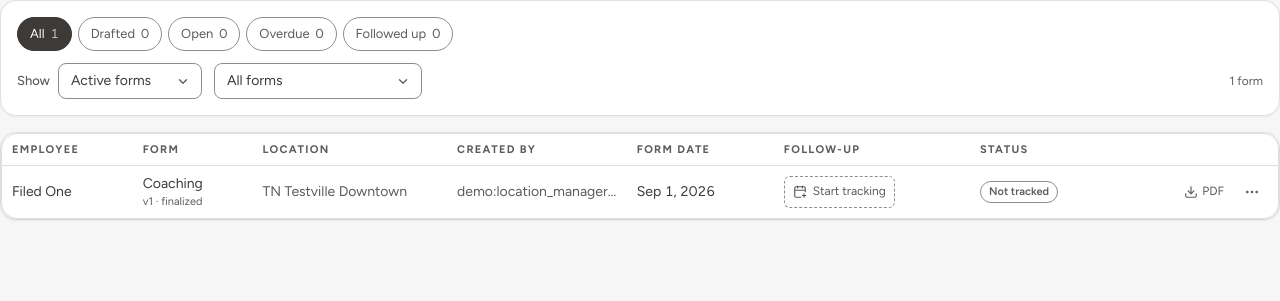
it: delete and archive still work as they did › offers Archive INSTEAD OF Delete on a finalized form
Click the button named "more actions".
click(1252, 192)  # box [1236,176,1268,208]
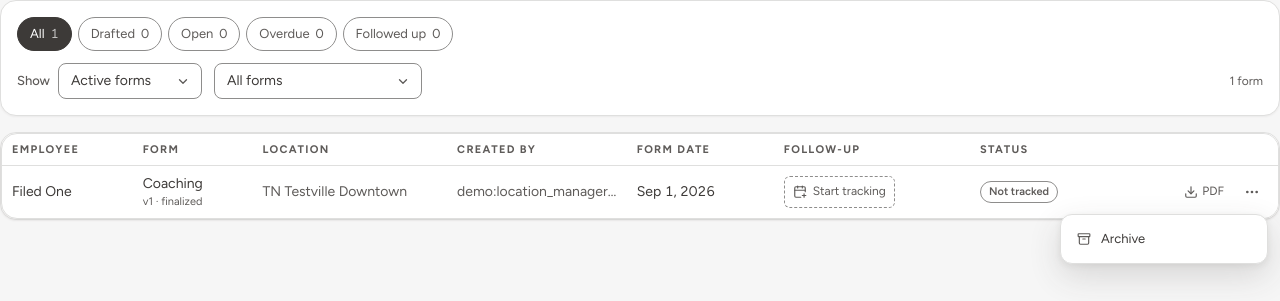
Expected: the menu item "Archive" is shown, [1077,231,1145,246]
